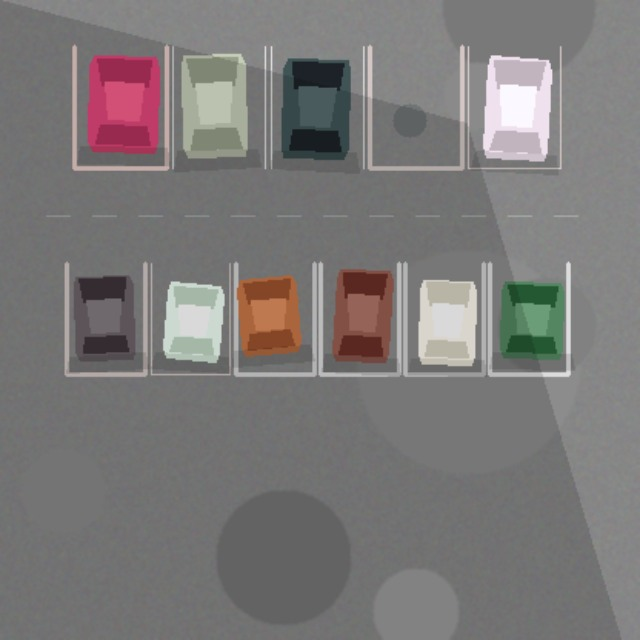space-empty: (369, 46, 462, 168)
space-occupied: (172, 46, 265, 168), (74, 46, 166, 168), (271, 46, 363, 168), (468, 46, 560, 168), (66, 263, 145, 374), (235, 263, 314, 374), (489, 263, 568, 374), (151, 263, 229, 374), (320, 263, 398, 374), (405, 263, 483, 374)
